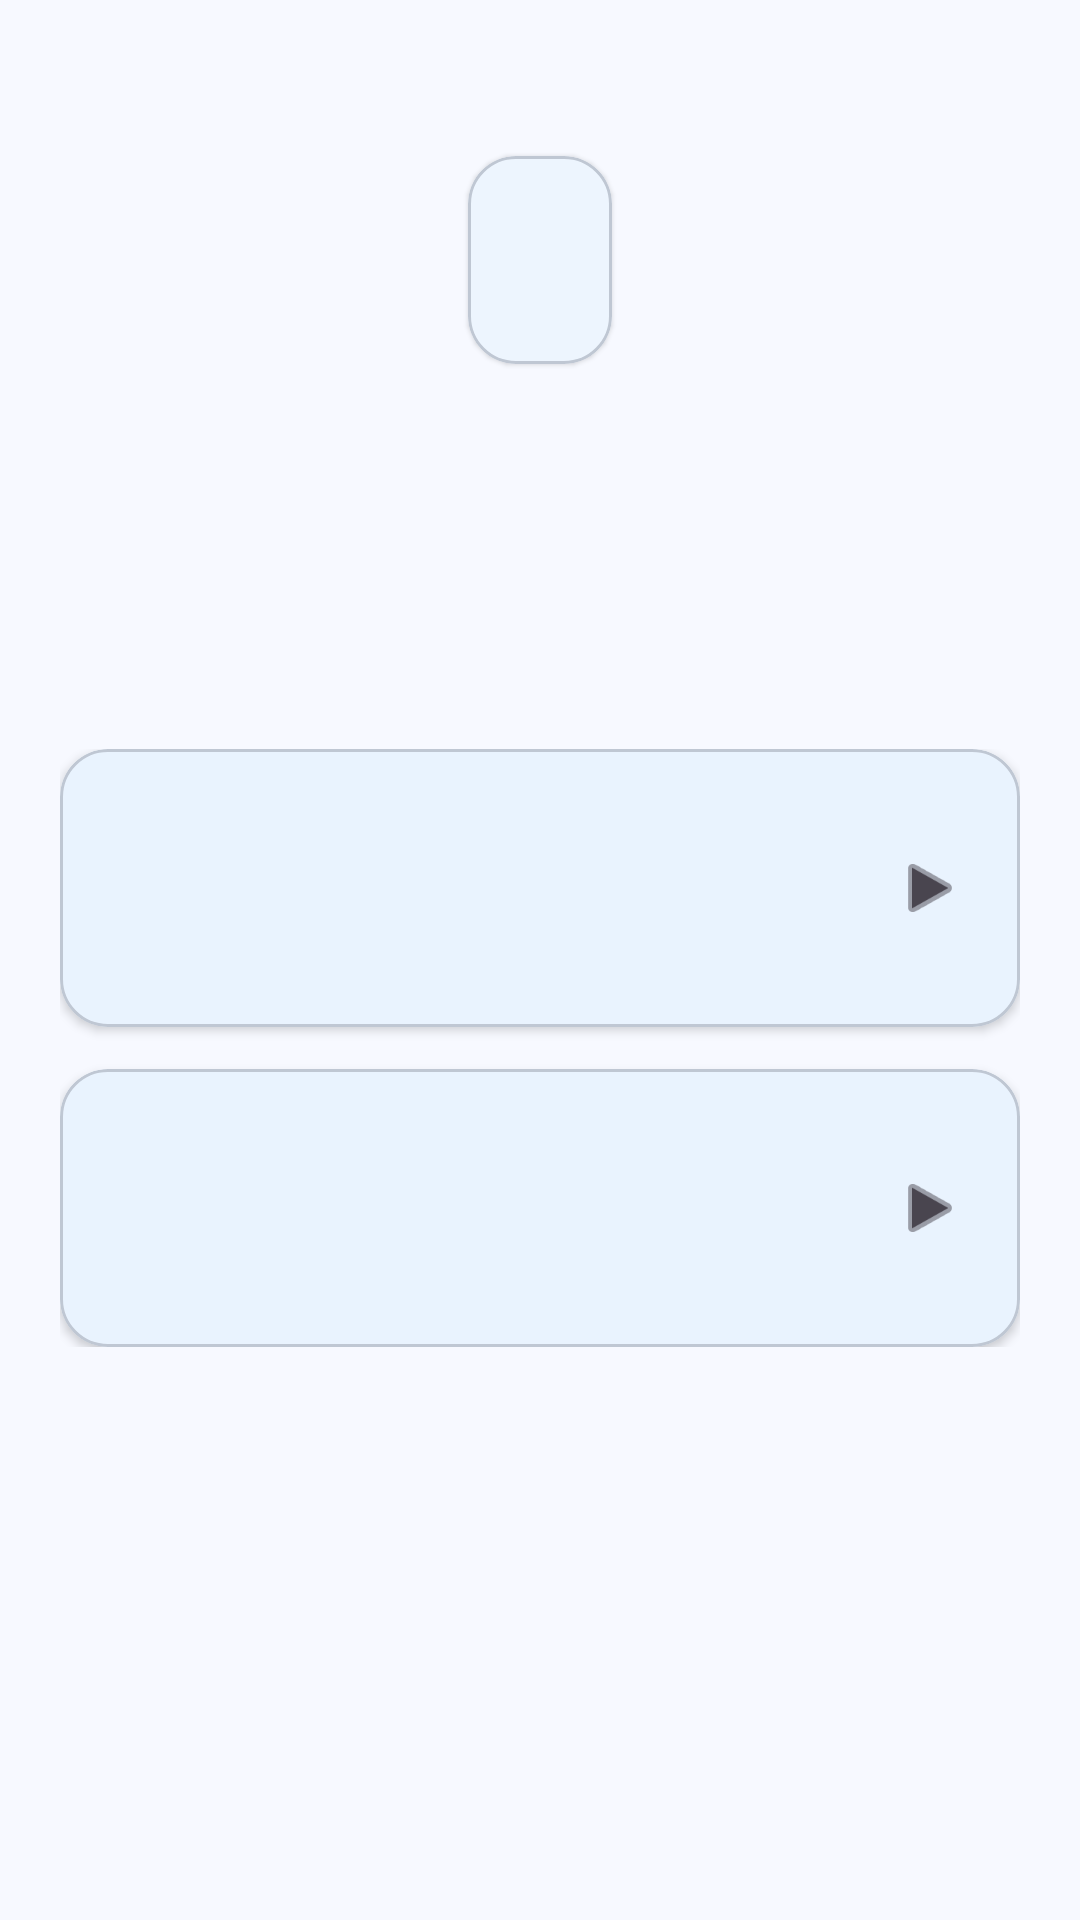

Point at icon controls on the screen. Image size 1080×1920, points as (x=x, y=y).
play: (x=930, y=888), (x=930, y=1208)
